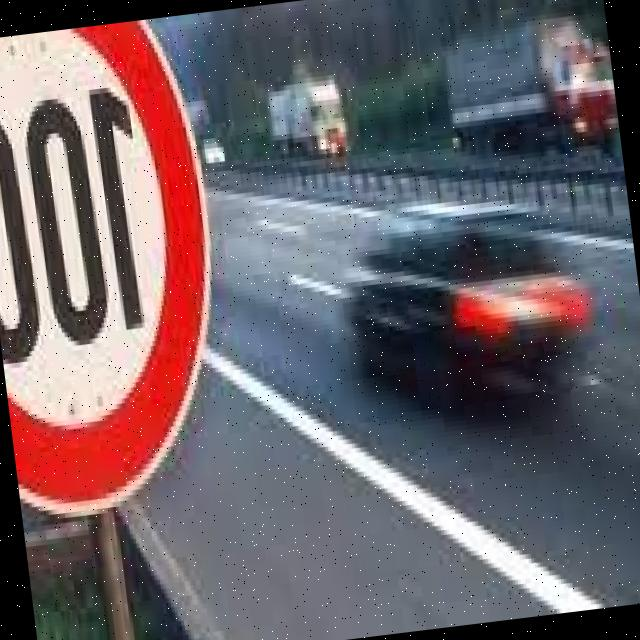speed_limit_100: (0, 14, 245, 532)
